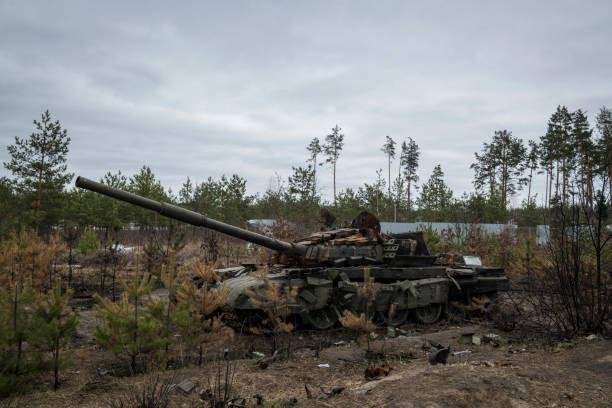tank: (74, 176, 510, 335)
